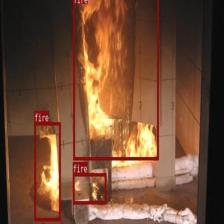fire: (73, 0, 158, 160), (34, 122, 60, 220), (72, 173, 106, 204)
